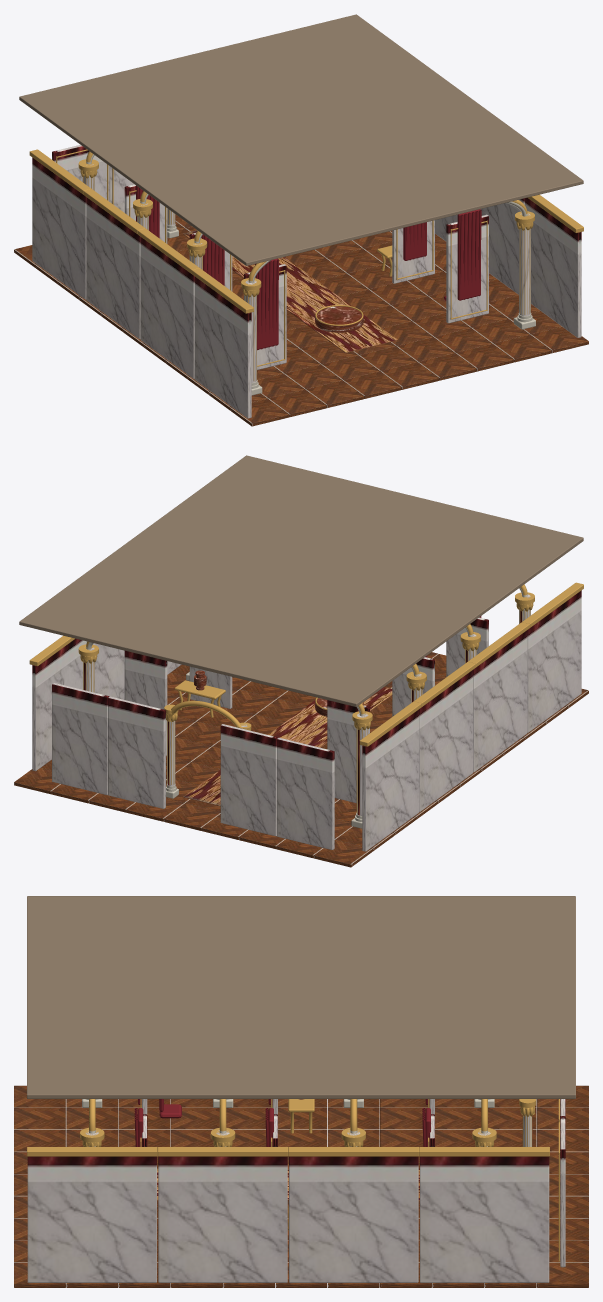
Rendered from room-3.glb.
3 renders of one model, top to bottom at view 1: azimuth 30°, elevation 25°; view 2: azimuth 150°, elevation 25°; view 3: azimuth 270°, elevation 25°, orthographic. The views are drawn at different scales.
Parts seen in each view (by area): view 1: Architecture Vaulted ceiling, Architecture Architectural stone, Architecture Floor tile, Architecture Antique gilt, Architecture Crimson velvet, Architecture Decorated glass, Architecture Decorative ceramic, Architecture Warm cut stone; view 2: Architecture Vaulted ceiling, Architecture Architectural stone, Architecture Floor tile, Architecture Antique gilt, Architecture Decorated glass; view 3: Architecture Vaulted ceiling, Architecture Architectural stone, Architecture Floor tile, Architecture Antique gilt, Architecture Crimson velvet, Architecture Warm cut stone.
Part boxes in pixels (x1=…): Architecture Vaulted ceiling: x1=19, y1=14, x2=583, y2=265; Architecture Architectural stone: x1=32, y1=145, x2=581, y2=418; Architecture Floor tile: x1=14, y1=214, x2=588, y2=426; Architecture Antique gilt: x1=29, y1=149, x2=583, y2=380; Architecture Crimson velvet: x1=136, y1=185, x2=481, y2=350; Architecture Decorated glass: x1=183, y1=230, x2=397, y2=352; Architecture Decorative ceramic: x1=315, y1=306, x2=363, y2=332; Architecture Warm cut stone: x1=86, y1=154, x2=535, y2=395; Architecture Vaulted ceiling: x1=19, y1=455, x2=583, y2=706; Architecture Architectural stone: x1=32, y1=590, x2=581, y2=851; Architecture Floor tile: x1=14, y1=652, x2=588, y2=867; Architecture Antique gilt: x1=29, y1=582, x2=583, y2=814; Architecture Decorated glass: x1=183, y1=687, x2=392, y2=806; Architecture Vaulted ceiling: x1=27, y1=896, x2=575, y2=1098; Architecture Architectural stone: x1=27, y1=1099, x2=565, y2=1282; Architecture Floor tile: x1=14, y1=1085, x2=588, y2=1287; Architecture Antique gilt: x1=27, y1=1099, x2=559, y2=1261; Architecture Crimson velvet: x1=134, y1=1099, x2=430, y2=1146; Architecture Warm cut stone: x1=82, y1=1099, x2=494, y2=1133.
Size of the model in its own units: 18.05 by 8.15 by 21.99.
10 materials, 4 textured.
